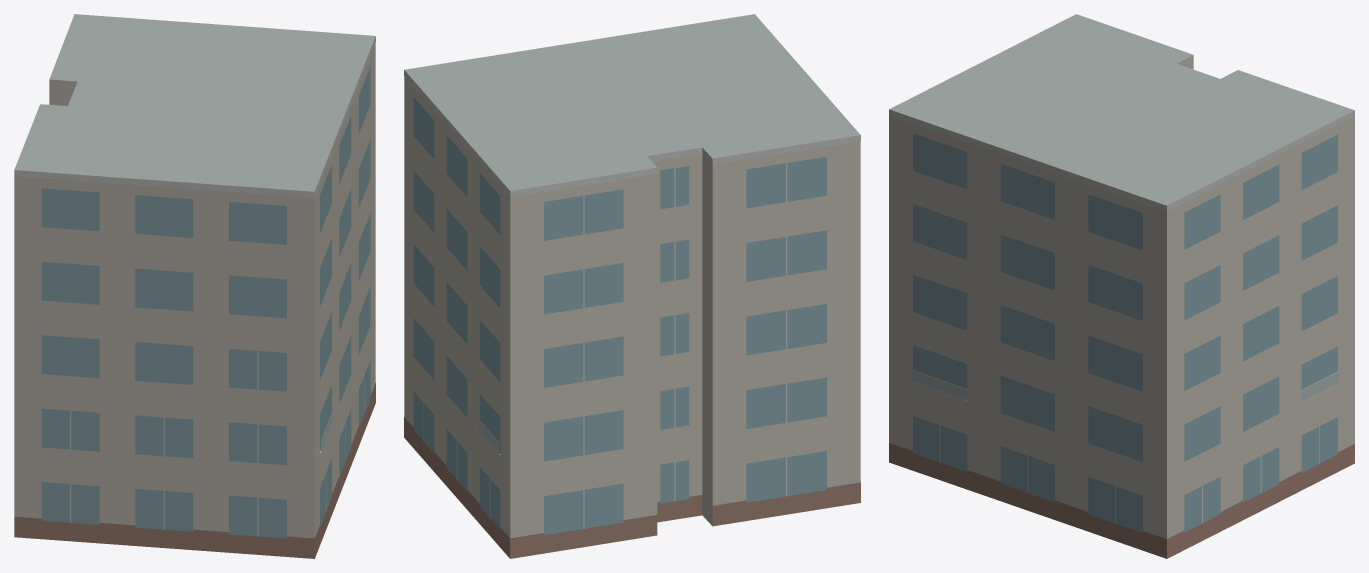
The model's file is survey-upis-32708688.glb.
The picture shows the model from 3 angles, left to right: view 1: azimuth 30°, elevation 25°; view 2: azimuth 150°, elevation 25°; view 3: azimuth 270°, elevation 25°; orthographic projection. The views are drawn at different scales.
Parts seen in each view (by area): view 1: survey-upis-32708688.tmp; view 2: survey-upis-32708688.tmp; view 3: survey-upis-32708688.tmp.
Part boxes in pixels (x1,y1,x2,y2): survey-upis-32708688.tmp: (14,14,375,558); survey-upis-32708688.tmp: (404,14,860,558); survey-upis-32708688.tmp: (889,14,1354,558).
Size of the model in its own units: 16.78 by 14.4 by 17.22.
